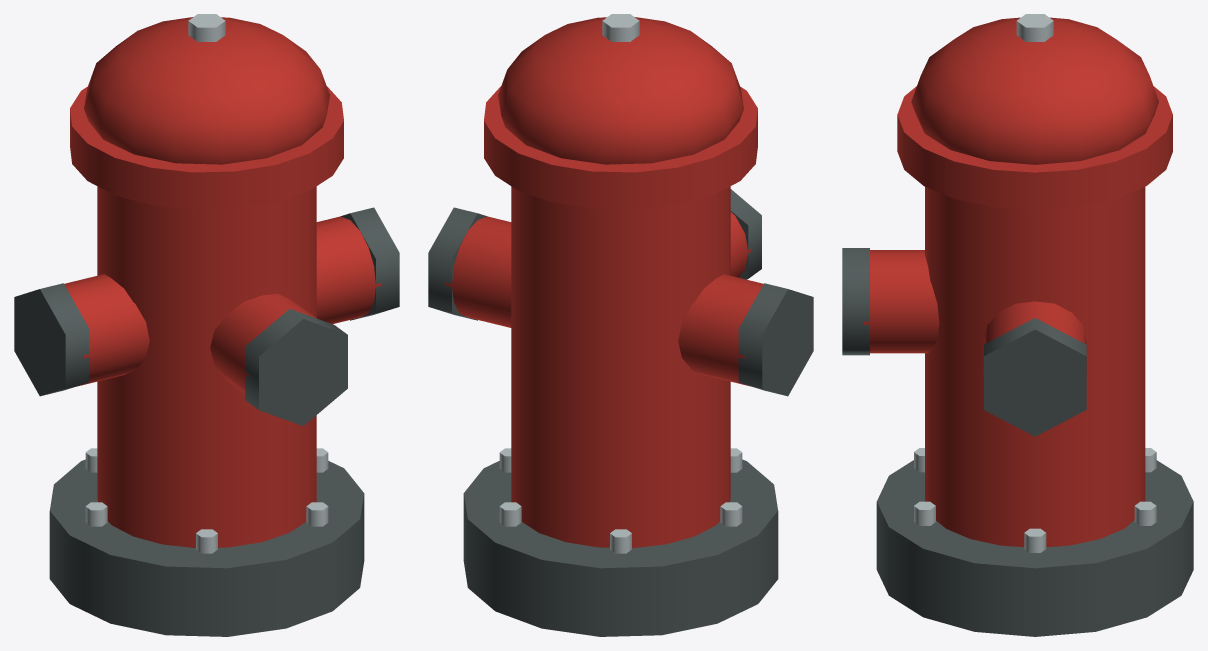
File: hydrant.glb
3 renders of one model, left to right at view 1: azimuth 30°, elevation 25°; view 2: azimuth 150°, elevation 25°; view 3: azimuth 270°, elevation 25°, orthographic.
Visible parts, largest first — view 1: Cast hydrant barrel, Hydrant base, Bonnet operating nut; view 2: Cast hydrant barrel, Hydrant base, Bonnet operating nut; view 3: Cast hydrant barrel, Hydrant base, Bonnet operating nut.
Part boxes in pixels (bbox=[...]): Cast hydrant barrel: bbox=[64, 17, 381, 548]; Hydrant base: bbox=[14, 207, 399, 636]; Bonnet operating nut: bbox=[85, 14, 328, 553]; Cast hydrant barrel: bbox=[446, 17, 763, 548]; Hydrant base: bbox=[428, 189, 813, 636]; Bonnet operating nut: bbox=[499, 14, 742, 553]; Cast hydrant barrel: bbox=[863, 17, 1172, 547]; Hydrant base: bbox=[842, 248, 1193, 636]; Bonnet operating nut: bbox=[914, 14, 1156, 552].
Size of the model in its own units: 0.56 by 0.88 by 0.51.
